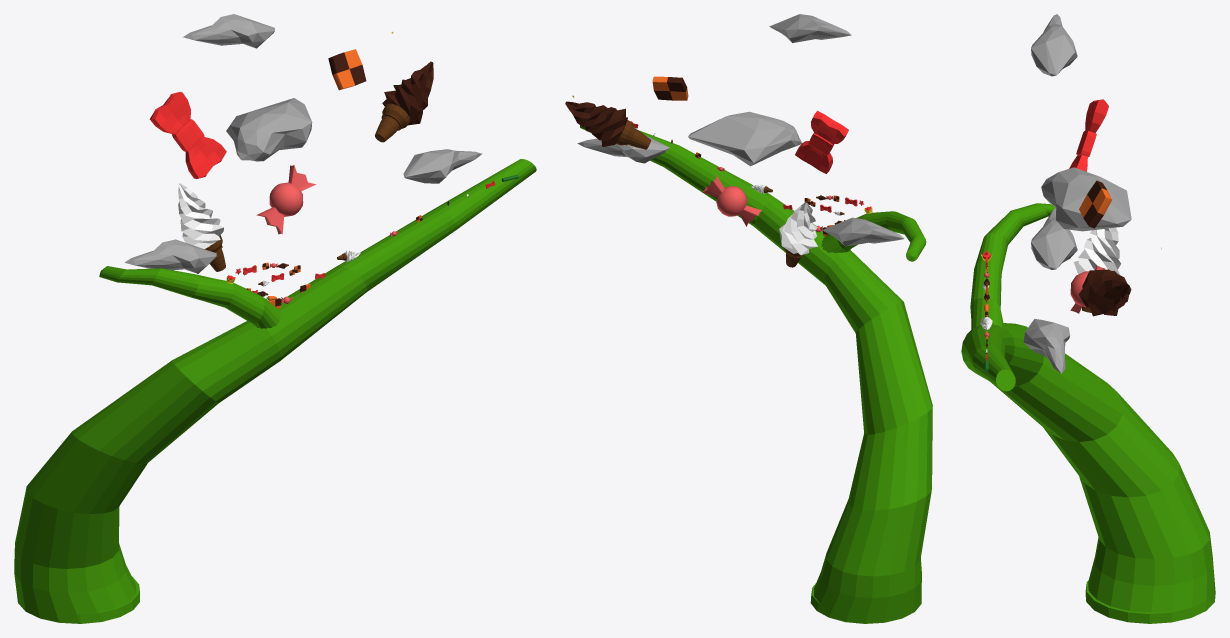
Rendered from frog_map_6stage_4.FBX.
The picture shows the model from 3 angles, left to right: view 1: azimuth 30°, elevation 25°; view 2: azimuth 150°, elevation 25°; view 3: azimuth 270°, elevation 25°; orthographic projection. The views are drawn at different scales.
Visible parts, largest first — view 1: foothold_kong03, foothold_kong02, foothold_kong01, foothold_kong04, 6stage_backgroundOBJ26, 6stage_backOBJ03, 6stage_backOBJ00, 6stage_backOBJ02, 6stage_backgroundOBJ042, 6stage_backgroundOBJ27, 6stage_backgroundOBJ25, 6stage_backOBJ01 (+1 smaller); view 2: foothold_kong03, foothold_kong02, foothold_kong01, 6stage_backgroundOBJ26, 6stage_backOBJ00, 6stage_backOBJ03, foothold_kong04, 6stage_backOBJ02, 6stage_backgroundOBJ042, 6stage_backgroundOBJ27, 6stage_backOBJ01, 6stage_backgroundOBJ25 (+1 smaller); view 3: foothold_kong03, foothold_kong02, foothold_kong04, 6stage_backgroundOBJ26, foothold_kong01, 6stage_backOBJ00, 6stage_backgroundOBJ042, 6stage_backgroundOBJ27, 6stage_backOBJ02, 6stage_backgroundOBJ25, 6stage_backOBJ03, 6stage_backOBJ04 (+1 smaller).
Boxes of the visible parts, x1,y1,x2,y2 form: foothold_kong03: (14, 431, 147, 623); foothold_kong02: (72, 321, 280, 463); foothold_kong01: (266, 159, 536, 360); foothold_kong04: (99, 266, 280, 328); 6stage_backgroundOBJ26: (226, 98, 312, 161); 6stage_backOBJ03: (149, 92, 226, 178); 6stage_backOBJ00: (375, 61, 433, 142); 6stage_backOBJ02: (178, 183, 225, 271); 6stage_backgroundOBJ042: (183, 14, 274, 48); 6stage_backgroundOBJ27: (124, 239, 216, 273); 6stage_backgroundOBJ25: (403, 149, 482, 183); 6stage_backOBJ01: (256, 165, 315, 234); foothold_kong03: (810, 405, 932, 623); foothold_kong02: (825, 250, 932, 434); foothold_kong01: (580, 125, 838, 285); 6stage_backgroundOBJ26: (688, 111, 801, 166); 6stage_backOBJ00: (565, 101, 651, 149); 6stage_backOBJ03: (795, 111, 848, 173); foothold_kong04: (821, 211, 926, 261); 6stage_backOBJ02: (779, 202, 817, 267); 6stage_backgroundOBJ042: (769, 14, 851, 42); 6stage_backgroundOBJ27: (822, 217, 904, 246); 6stage_backOBJ01: (702, 176, 761, 226); 6stage_backgroundOBJ25: (577, 135, 669, 163); foothold_kong03: (1044, 392, 1215, 623); foothold_kong02: (976, 323, 1122, 442); foothold_kong04: (970, 203, 1055, 329); 6stage_backgroundOBJ26: (1041, 167, 1131, 231); foothold_kong01: (961, 324, 1015, 391); 6stage_backOBJ00: (1078, 269, 1131, 316); 6stage_backgroundOBJ042: (1031, 14, 1077, 76); 6stage_backgroundOBJ27: (1031, 208, 1077, 269); 6stage_backOBJ02: (1074, 227, 1120, 312); 6stage_backgroundOBJ25: (1023, 319, 1070, 373); 6stage_backOBJ03: (1069, 99, 1108, 171); 6stage_backOBJ04: (1079, 180, 1111, 228).
Bounding box in the file's own units: 4196 × 5323 × 1969.
